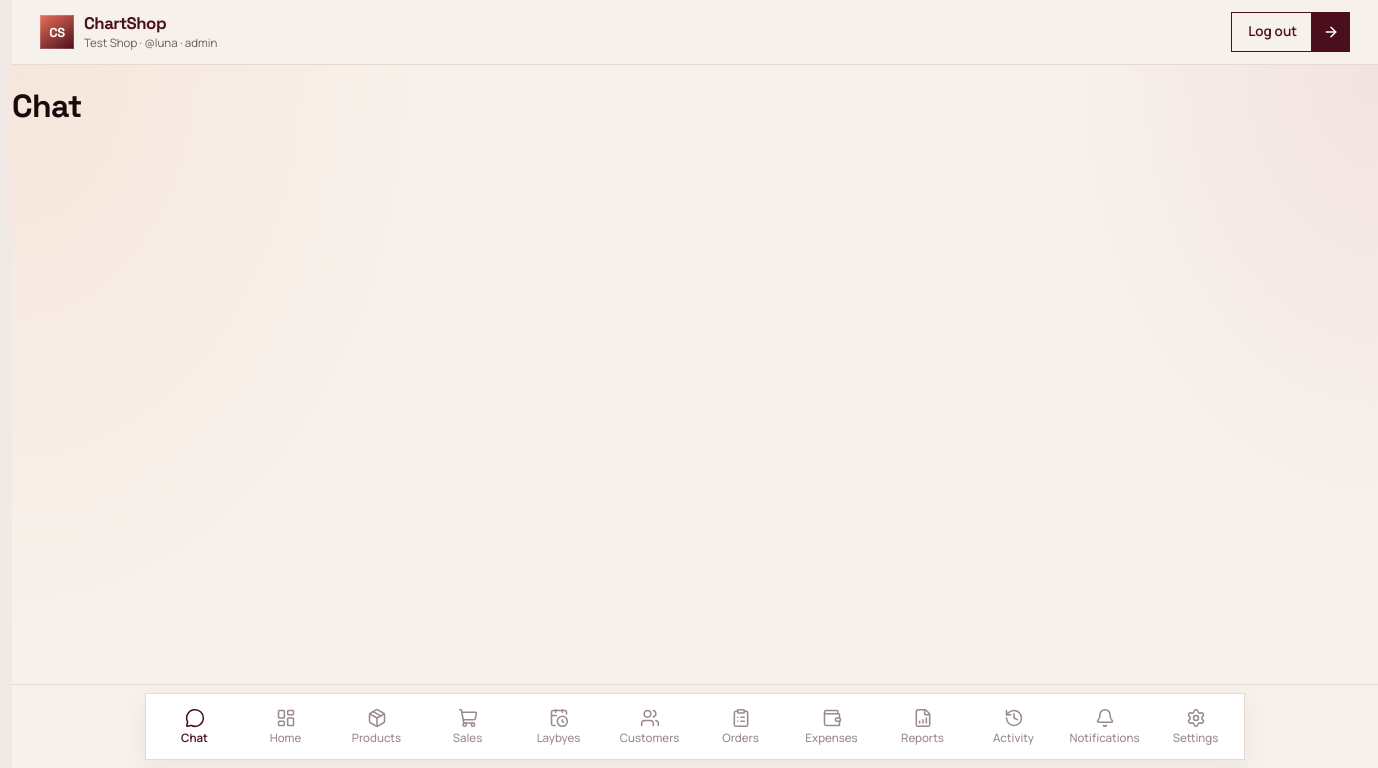
Test: scroll behaviour › AppLayout › resets main to top when leaving Chat for a task page
The image size is (1378, 768).
Step 1. Click the link "Products" → (376, 727), box [352,708,401,745]
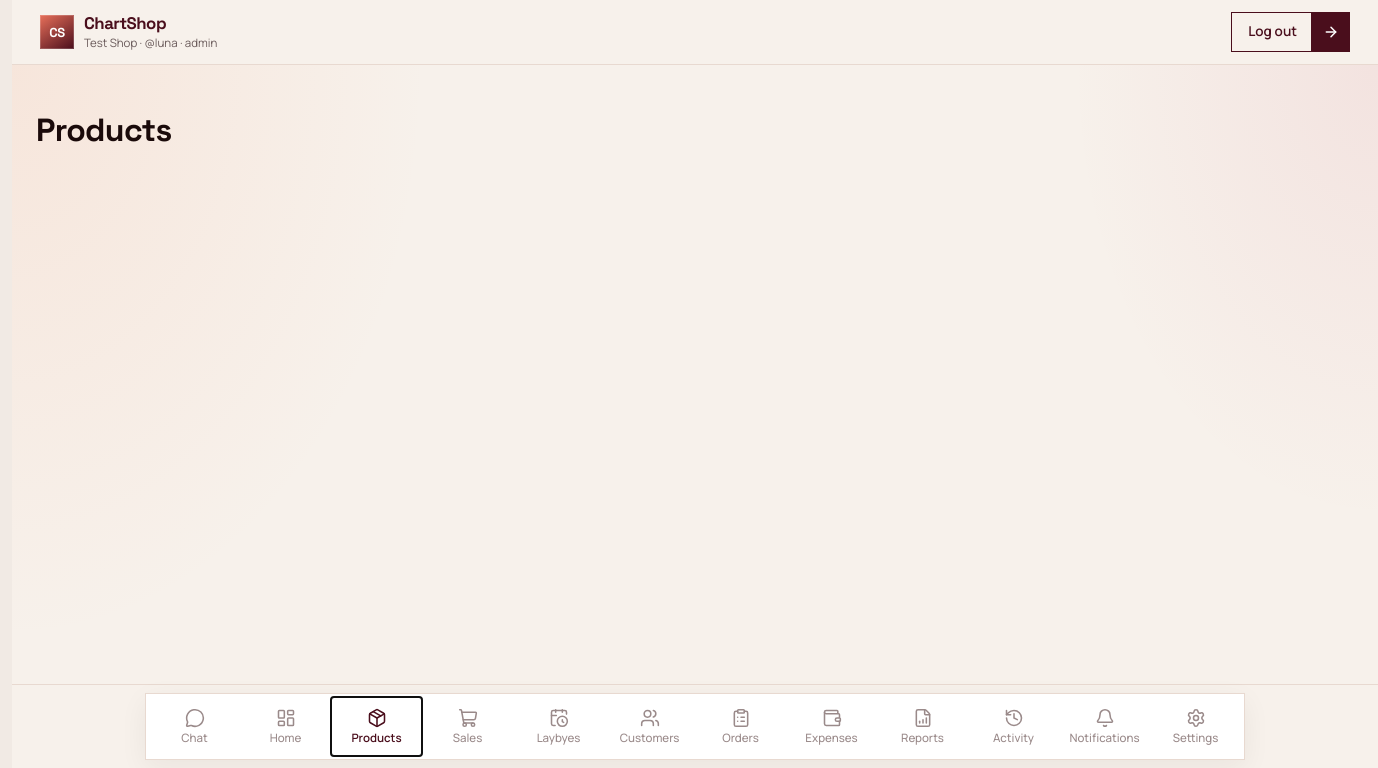
Now the heading "Products" is shown, box [36,110,172,150]
